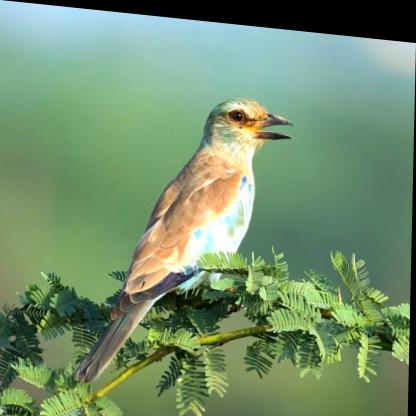Burung: (77, 79, 294, 396)
